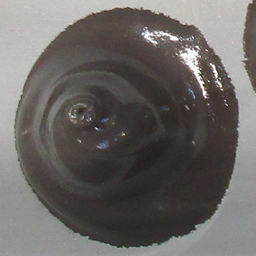perfect: (12, 3, 254, 245)
